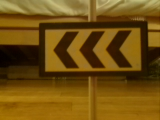left: (40, 24, 148, 75)
